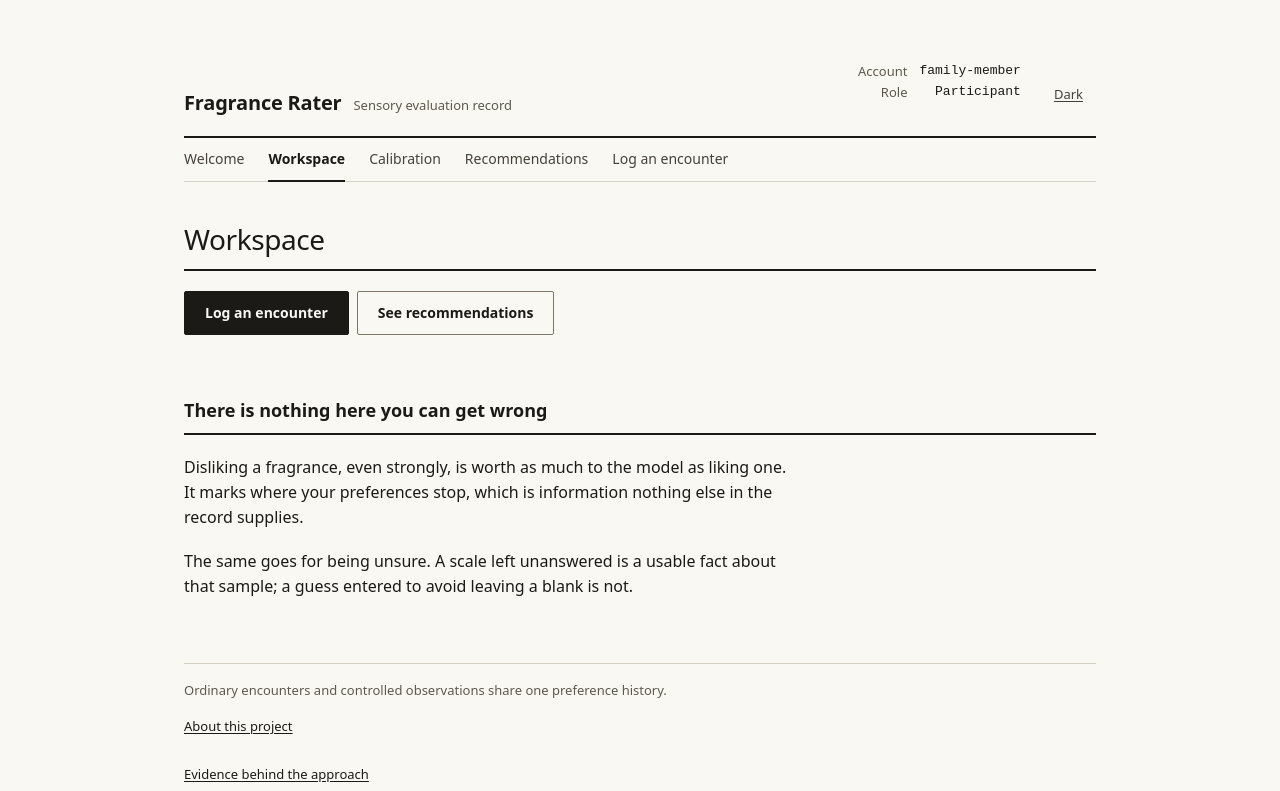
Test: WorkspacePage › navigates to the recommendations page when "See recommendations" is clicked
Step 1. Click the button "See recommendations" → (456, 313), box [357,291,554,335]
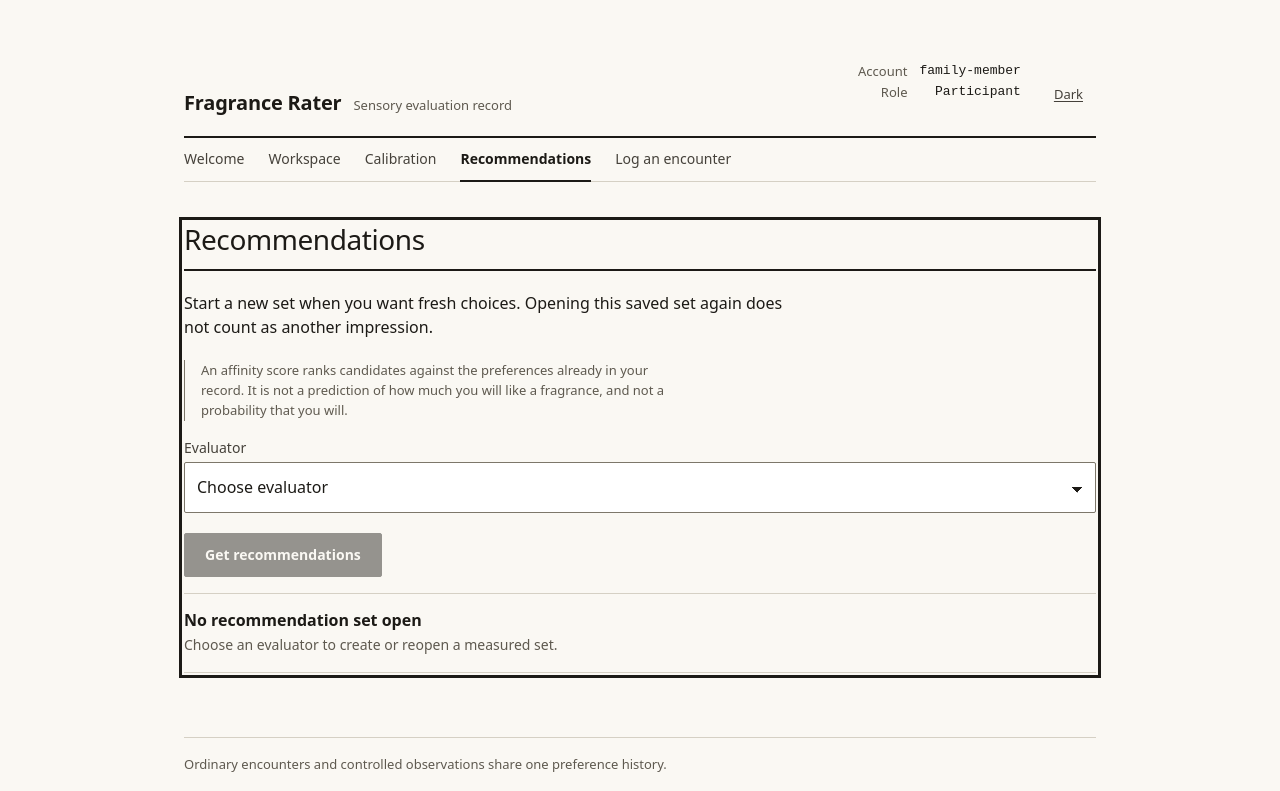
expect the heading "Recommendations" is shown: met, box [184,222,425,257]
